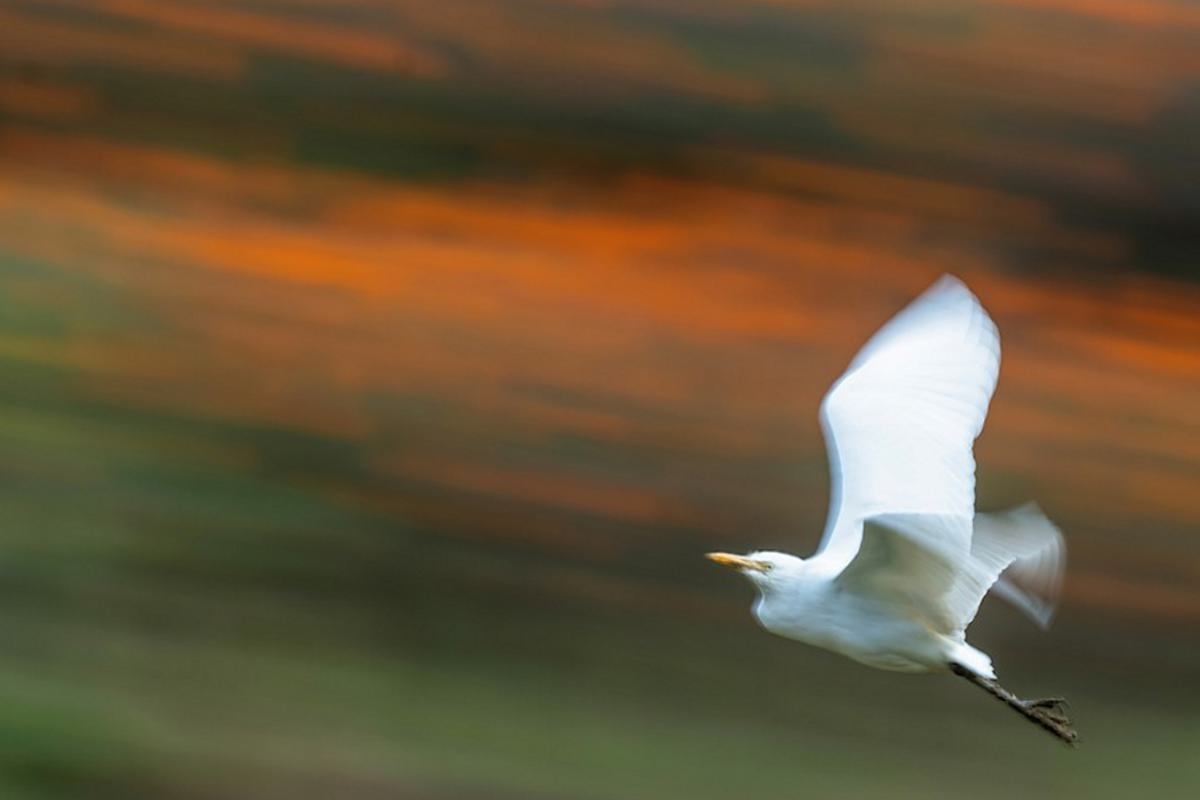egret: (688, 244, 1086, 748)
